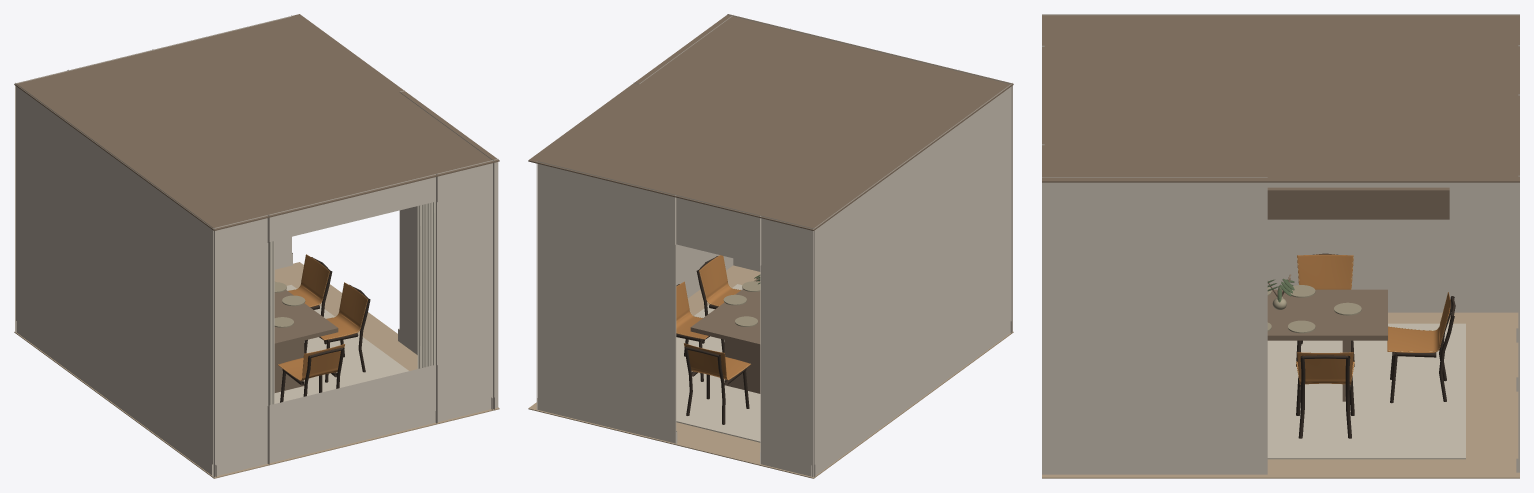
The model's file is dining-3.glb.
The picture shows the model from 3 angles, left to right: view 1: azimuth 30°, elevation 25°; view 2: azimuth 150°, elevation 25°; view 3: azimuth 270°, elevation 25°; orthographic projection. The views are drawn at different scales.
Visible parts, largest first — view 1: DESIGN | dining removable wall finish, DESIGN | dining ceiling finish, DESIGN | dining floor finish, DESIGN | Dining ground, DESIGN | Dining linen edge.001, DESIGN | Dining table top, DESIGN | Required Isadora dining chair 3, DESIGN | Required Isadora dining chair 5, DESIGN | Required Isadora dining chair 4, DESIGN | Dining linen edge, DESIGN | Dining table trestle; view 2: DESIGN | dining removable wall finish, DESIGN | dining ceiling finish, DESIGN | Dining ground, DESIGN | dining floor finish, DESIGN | Dining table top, DESIGN | Required Isadora dining chair 6, DESIGN | Required Isadora dining chair 3, DESIGN | Dining table trestle.001, DESIGN | Required Isadora dining chair 4; view 3: DESIGN | dining removable wall finish, DESIGN | dining ceiling finish, DESIGN | Dining ground, DESIGN | dining floor finish, DESIGN | Dining sculptural timber wall band, DESIGN | Dining table top, DESIGN | Required Isadora dining chair 6, DESIGN | Required Isadora dining chair 4, DESIGN | Required Isadora dining chair 2.
Boxes of the visible parts, <box> form: DESIGN | dining removable wall finish: <box>15,15,498,477</box>; DESIGN | dining ceiling finish: <box>14,14,499,230</box>; DESIGN | dining floor finish: <box>14,262,499,478</box>; DESIGN | Dining ground: <box>274,285,408,403</box>; DESIGN | Dining linen edge.001: <box>417,201,435,368</box>; DESIGN | Dining table top: <box>274,290,338,347</box>; DESIGN | Required Isadora dining chair 3: <box>304,282,370,382</box>; DESIGN | Required Isadora dining chair 5: <box>278,344,344,402</box>; DESIGN | Required Isadora dining chair 4: <box>288,254,332,344</box>; DESIGN | Dining linen edge: <box>268,241,274,405</box>; DESIGN | Dining table trestle: <box>274,340,304,392</box>; DESIGN | dining removable wall finish: <box>536,14,1012,477</box>; DESIGN | dining ceiling finish: <box>528,14,1013,230</box>; DESIGN | Dining ground: <box>676,284,760,442</box>; DESIGN | dining floor finish: <box>528,265,1013,478</box>; DESIGN | Dining table top: <box>690,276,760,348</box>; DESIGN | Required Isadora dining chair 6: <box>684,343,750,424</box>; DESIGN | Required Isadora dining chair 3: <box>696,255,740,343</box>; DESIGN | Dining table trestle.001: <box>724,340,760,393</box>; DESIGN | Required Isadora dining chair 4: <box>676,281,724,381</box>; DESIGN | dining removable wall finish: <box>1042,14,1519,474</box>; DESIGN | dining ceiling finish: <box>1042,15,1519,182</box>; DESIGN | Dining ground: <box>1267,323,1465,459</box>; DESIGN | dining floor finish: <box>1042,312,1519,478</box>; DESIGN | Dining sculptural timber wall band: <box>1267,187,1449,219</box>; DESIGN | Dining table top: <box>1267,289,1387,340</box>; DESIGN | Required Isadora dining chair 6: <box>1387,292,1455,403</box>; DESIGN | Required Isadora dining chair 4: <box>1296,352,1354,438</box>; DESIGN | Required Isadora dining chair 2: <box>1296,253,1354,366</box>.
Size of the model in its own units: 3.28 by 2.74 by 3.98.
